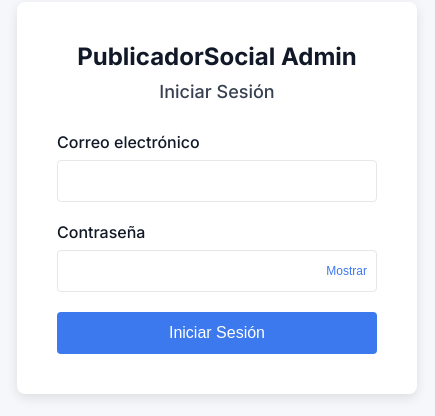
it: LoginComponent › el botón de mostrar/ocultar refleja el estado en la plantilla
Click the button with class "toggle-password": (347, 271) [326,264,367,278]
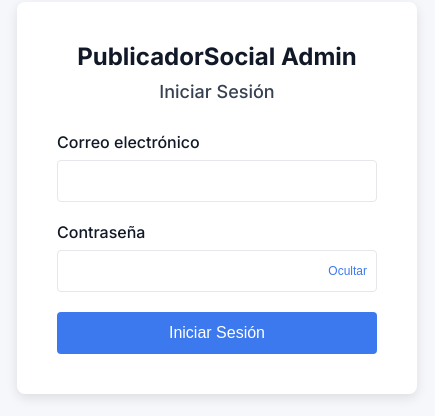
Expected: the button with class "toggle-password" reads "Ocultar", [328,264,367,278]
